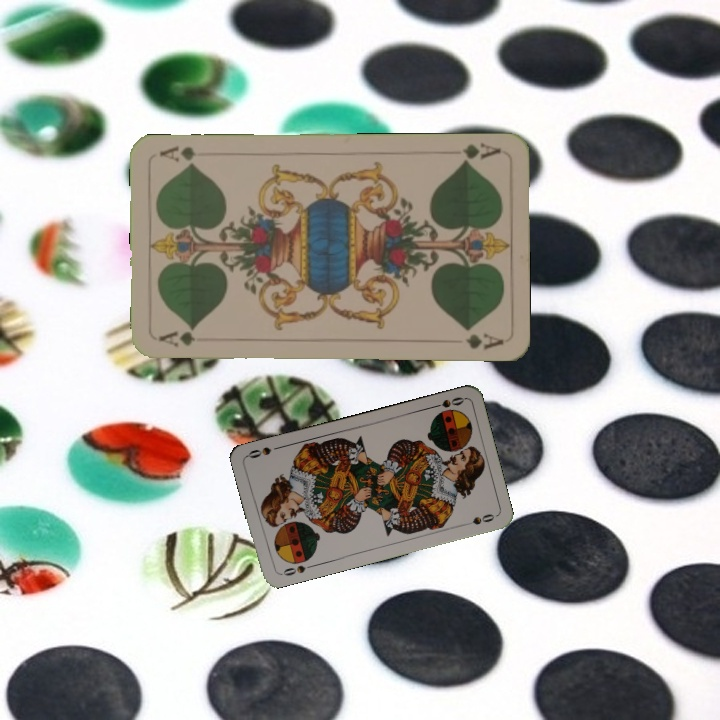GA: (155, 327, 214, 349), (456, 140, 503, 167)
SO: (427, 393, 467, 411), (275, 561, 308, 578)
